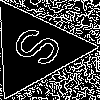S: (10, 23, 74, 75)
